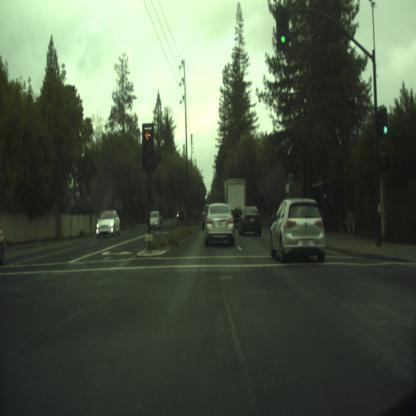Green: (276, 7, 288, 49), (381, 107, 388, 135)
RedLeft: (142, 124, 154, 170)
